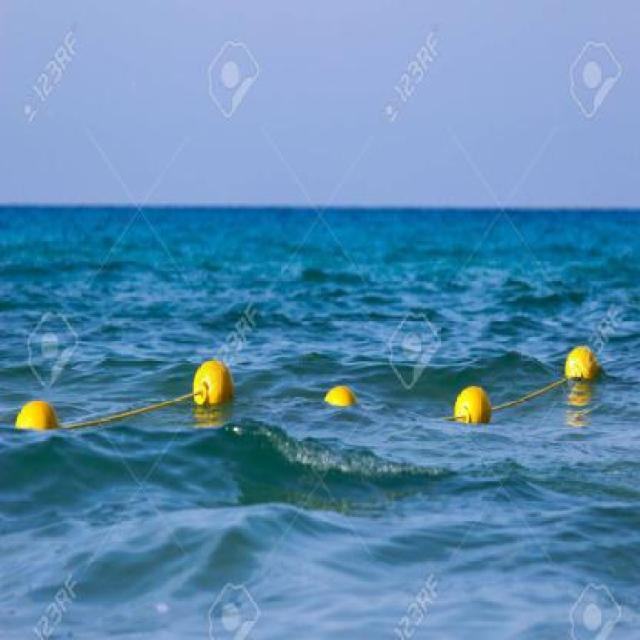a: (3, 352, 245, 456), (441, 337, 609, 436), (183, 350, 254, 429), (13, 389, 72, 450), (446, 380, 500, 439), (323, 377, 369, 425), (562, 342, 603, 394)
